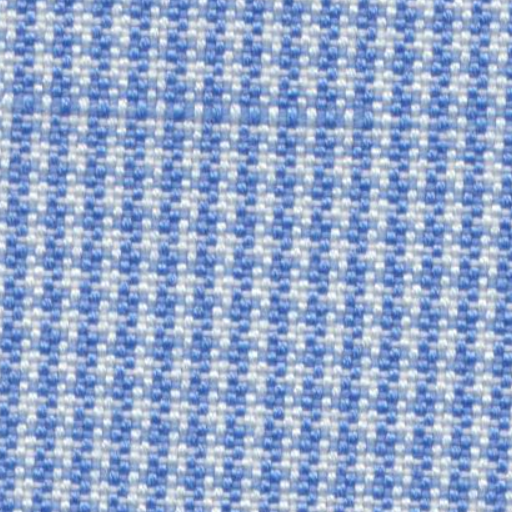TuoSha: (4, 62, 472, 156)
